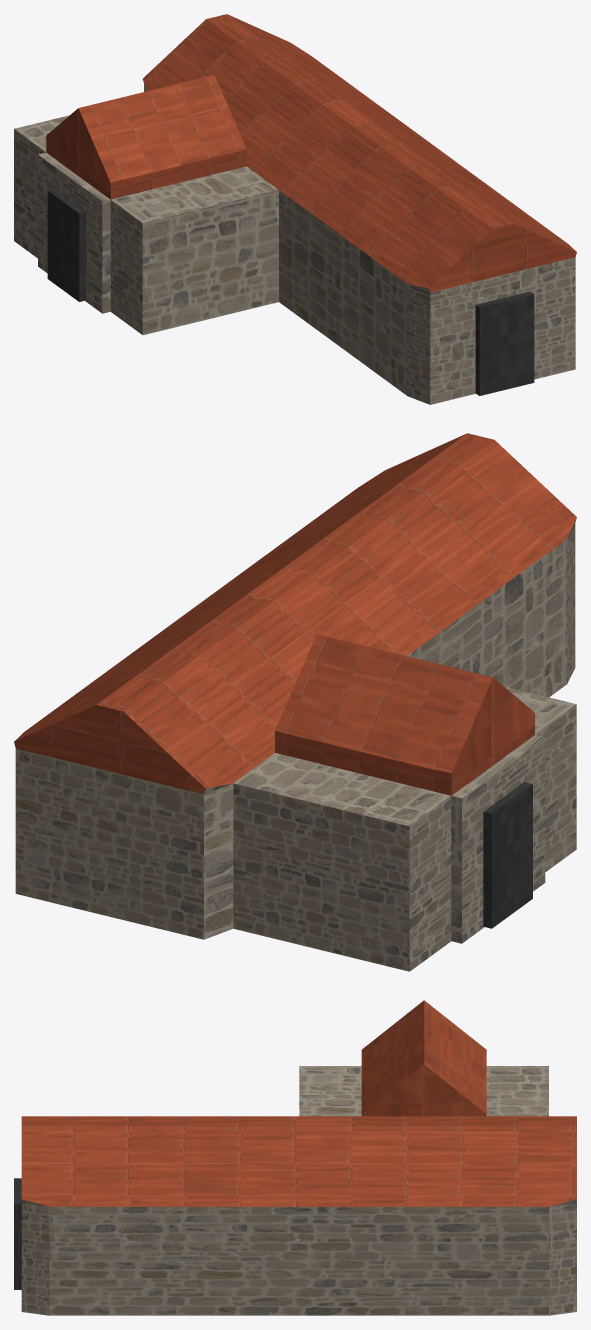
Rendered from rural-house-big_6.fbx.
The picture shows the model from 3 angles, top to bottom: view 1: azimuth 30°, elevation 25°; view 2: azimuth 150°, elevation 25°; view 3: azimuth 270°, elevation 25°; orthographic projection. The views are drawn at different scales.
Visible parts, largest first — view 1: Cube.045; view 2: Cube.045; view 3: Cube.045.
Part boxes in pixels (left/top/right/bottom): Cube.045: left=14, top=14, right=576, bottom=404; Cube.045: left=14, top=433, right=576, bottom=971; Cube.045: left=14, top=1000, right=576, bottom=1315.
Bounding box in the file's own units: 739 × 407 × 1188.
